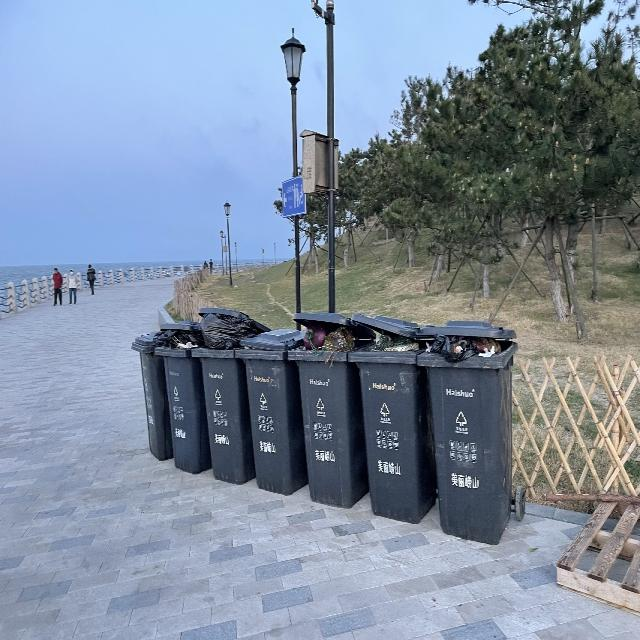garbage_bin: (130, 330, 172, 460)
overflow: (415, 319, 525, 545), (347, 313, 437, 524), (286, 311, 368, 508), (189, 306, 271, 484), (233, 327, 307, 495), (154, 320, 212, 474)
